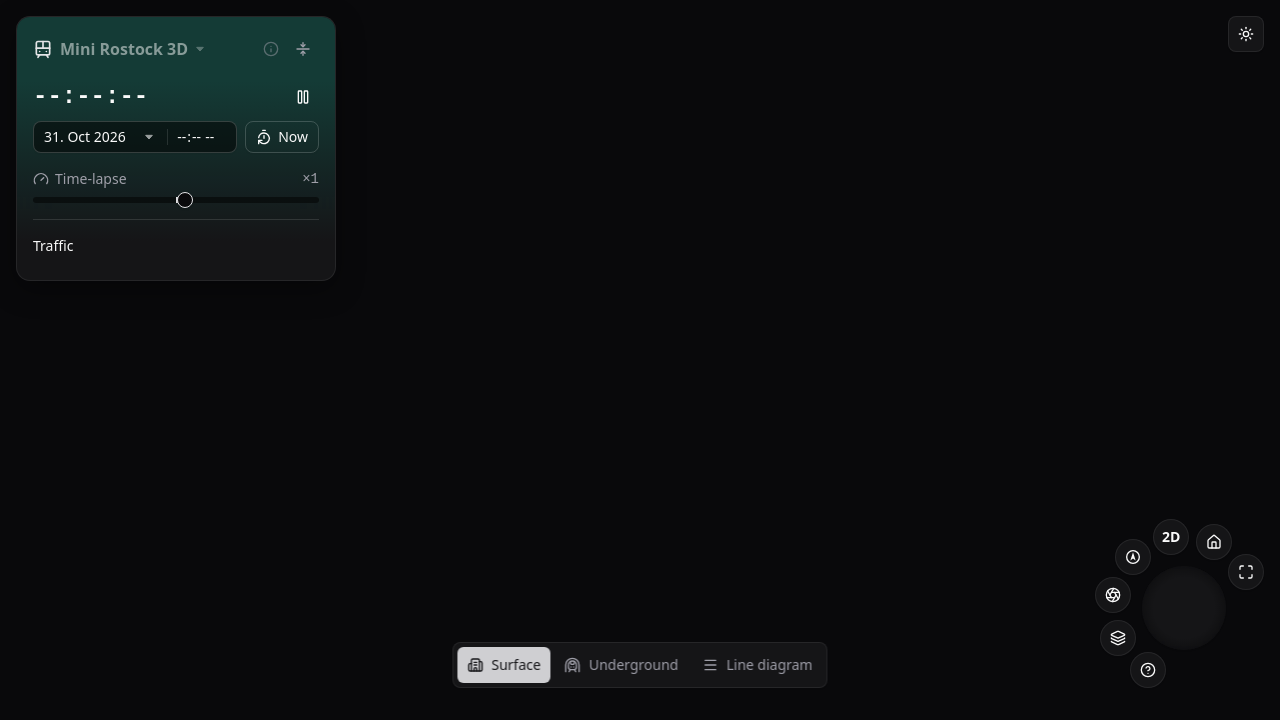
Test: App (UI shell) › shows layer switches for routes and stops, behind the rail button
The image size is (1280, 720).
Click the button named "Layers" at {"x": 1118, "y": 638}, box [1100,620,1136,656]
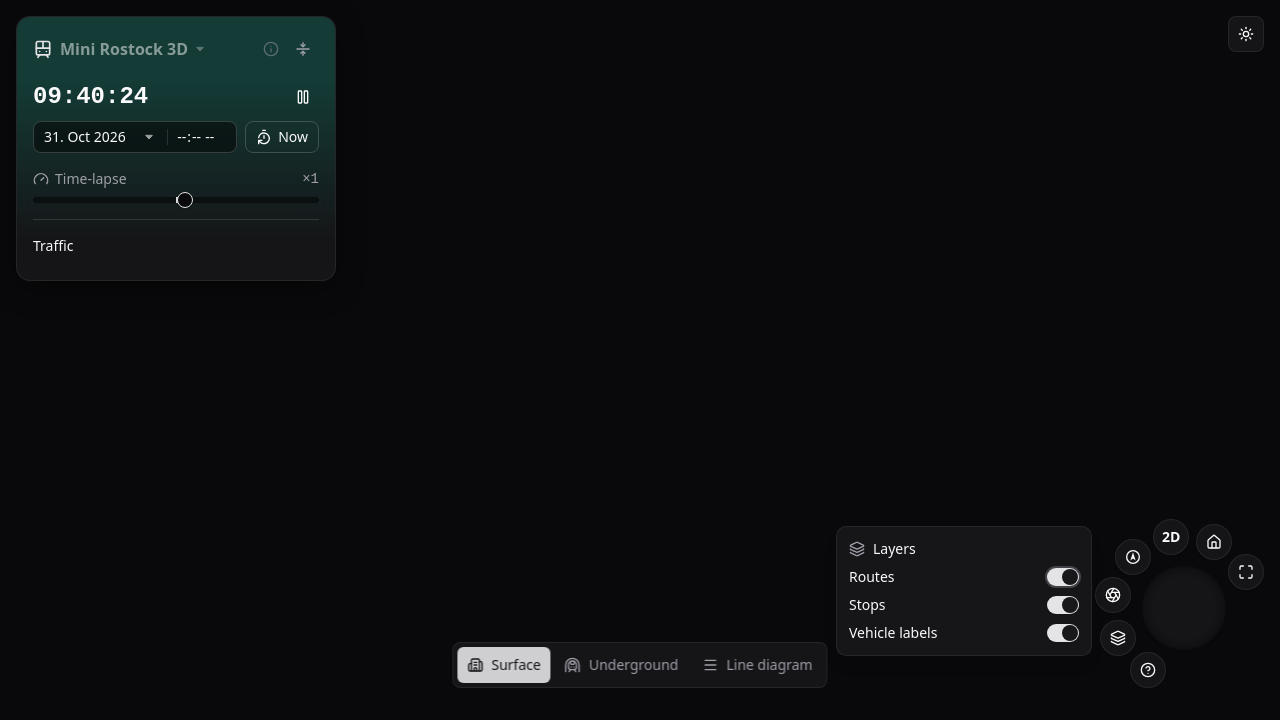
Result: the switch named "Show routes" is shown at [1047,568,1079,586]
Result: the switch named "Show stops" is shown at [1047,596,1079,614]
